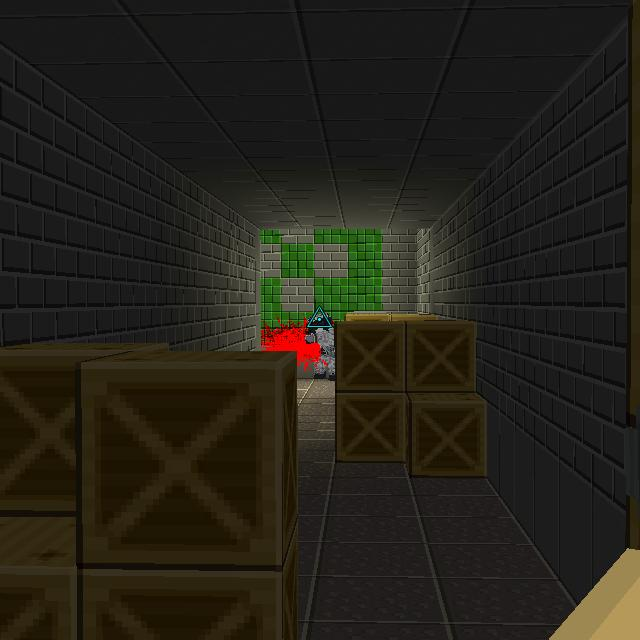enemy: (304, 311, 336, 381)
